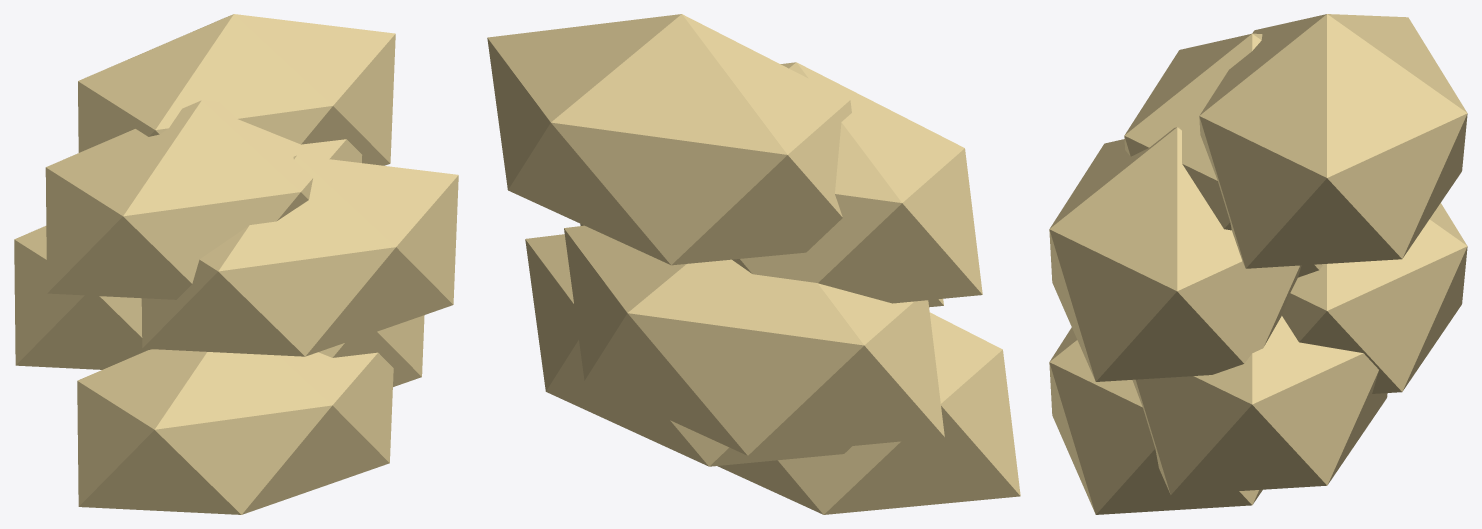
The model's file is item_061_rye_l.glb.
The picture shows the model from 3 angles, left to right: view 1: azimuth 30°, elevation 25°; view 2: azimuth 150°, elevation 25°; view 3: azimuth 270°, elevation 25°; orthographic projection. The views are drawn at different scales.
Parts seen in each view (by area): view 1: item_061_rye_l; view 2: item_061_rye_l; view 3: item_061_rye_l.
Part boxes in pixels (<box>): item_061_rye_l: <box>14,14,458,514</box>; item_061_rye_l: <box>487,14,1020,514</box>; item_061_rye_l: <box>1049,14,1467,514</box>.
Bounding box in the file's own units: 0.418 × 0.4539 × 0.3347.
